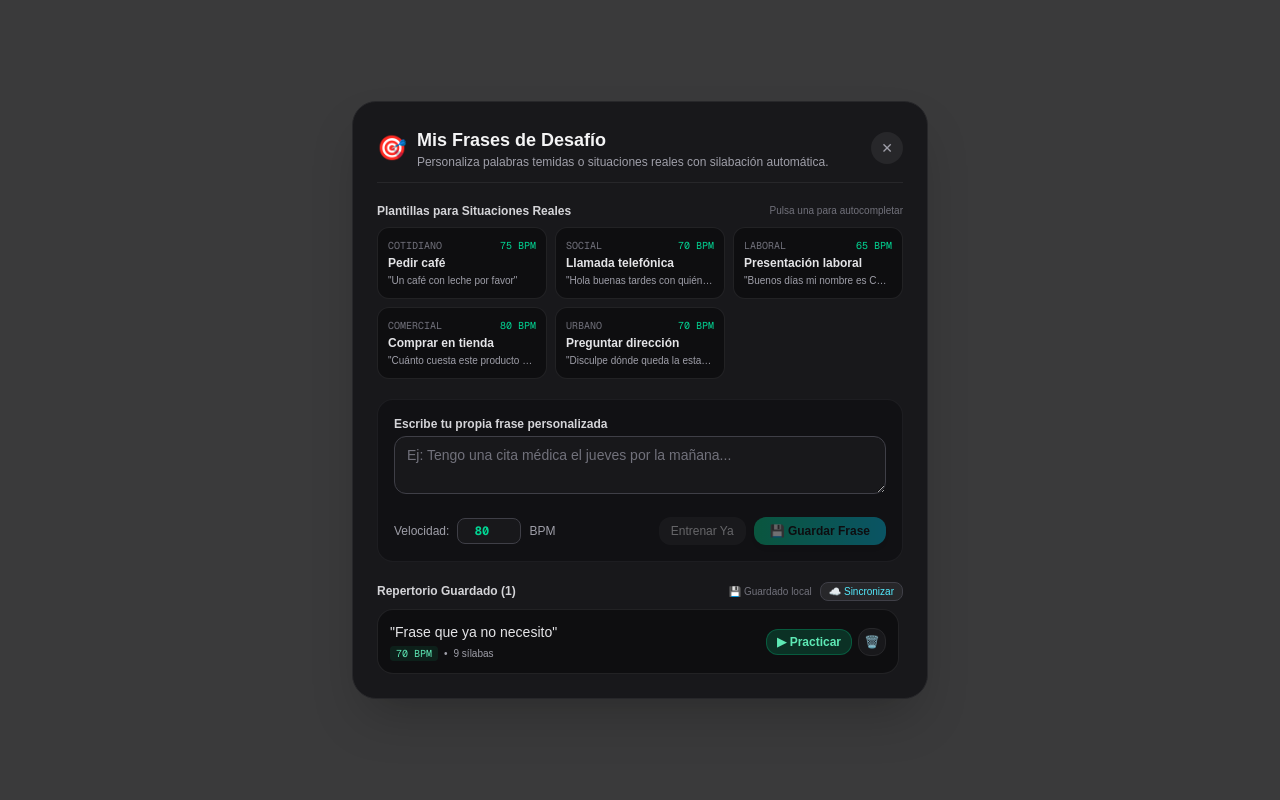
Test case: CustomPhraseTrainer › permite eliminar una frase del repertorio personal
Expected: the text "\"Frase que ya no necesito\"" is shown, [390,624,557,640]
Click the button titled "Eliminar de mi lista": (872, 642) [858,628,886,656]
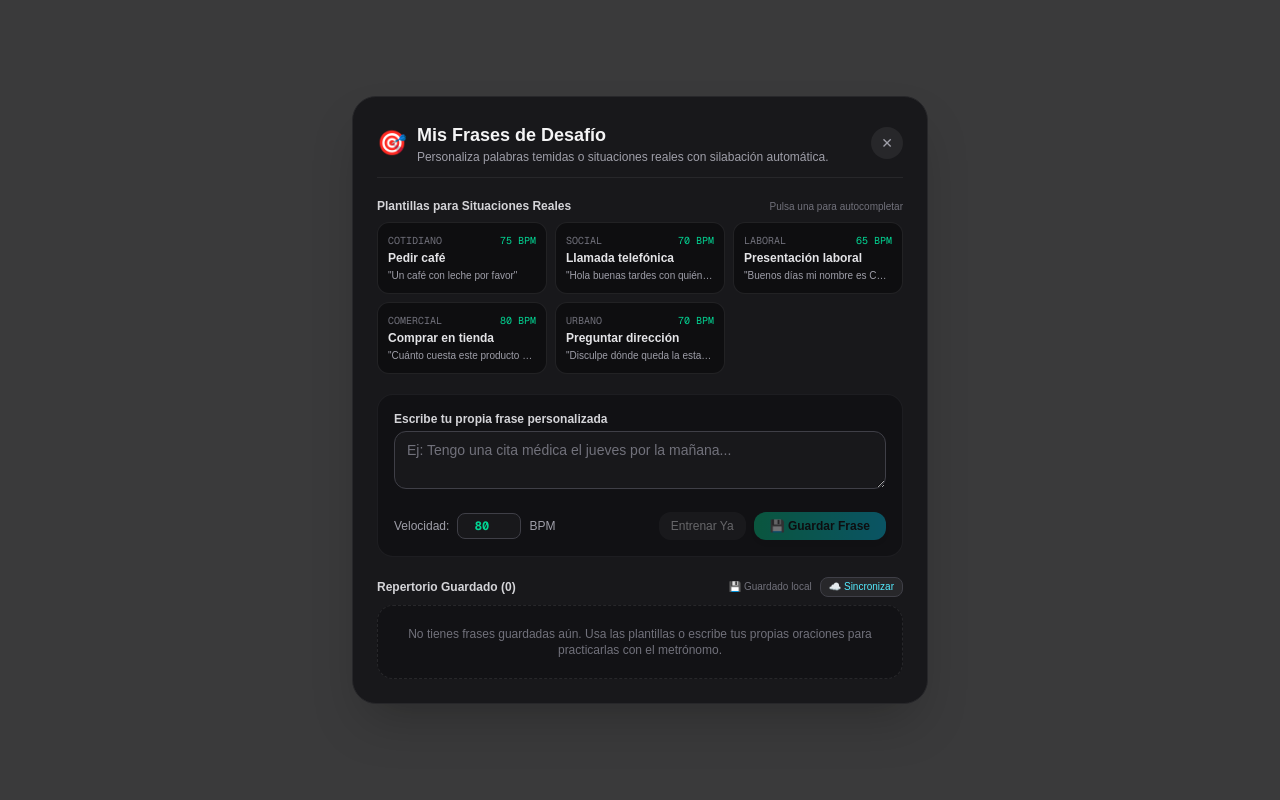
Result: the text "\"Frase que ya no necesito\"" is gone
